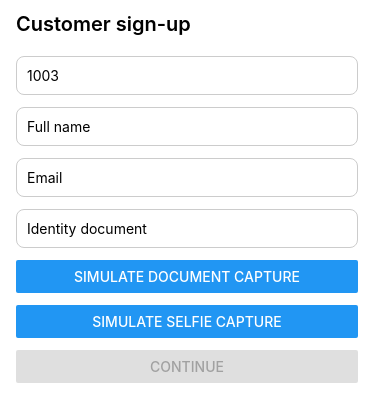
Test: OnboardingScreen › enables "Continue" only once the data and both simulated captures are complete
Expected: the button "Continue" is disabled, [16,350,358,382]
Type "Ana Torres" into the field with test id "input-name" at (187, 126), box [16,106,358,146]
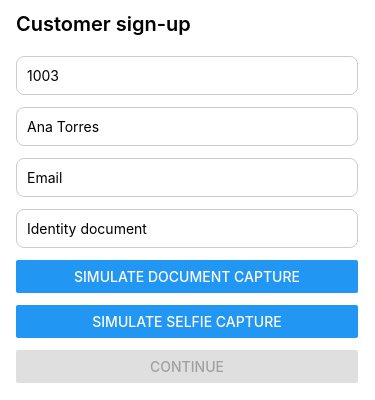
Type "ana@bp.test" into the field with test id "input-email" at (187, 177), box [16,158,358,196]
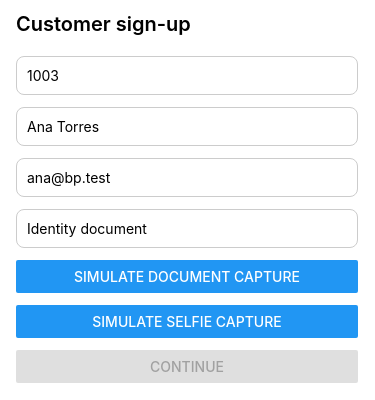
Type "12345678" into the field with test id "input-document" at (187, 228), box [16,208,358,248]
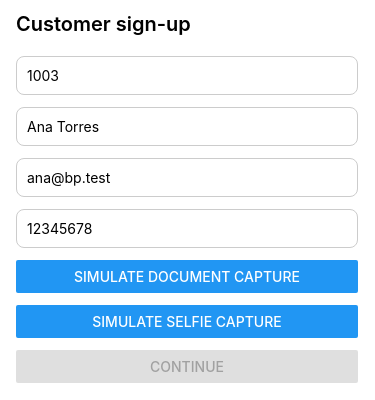
Click the button "Simulate document capture" at (187, 276), box [16,260,358,292]
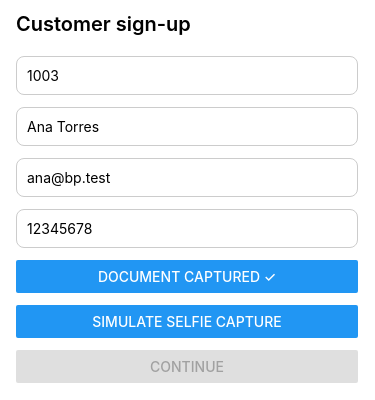
Click the button "Simulate selfie capture" at (187, 321), box [16,304,358,338]
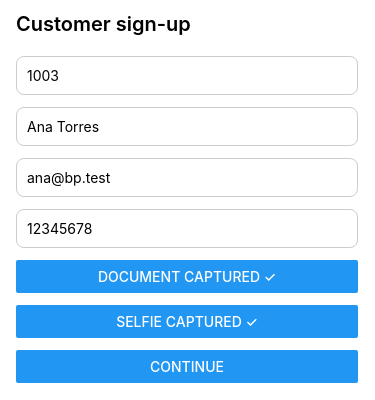
Expected: the button "Continue" is enabled, [16,350,358,382]
